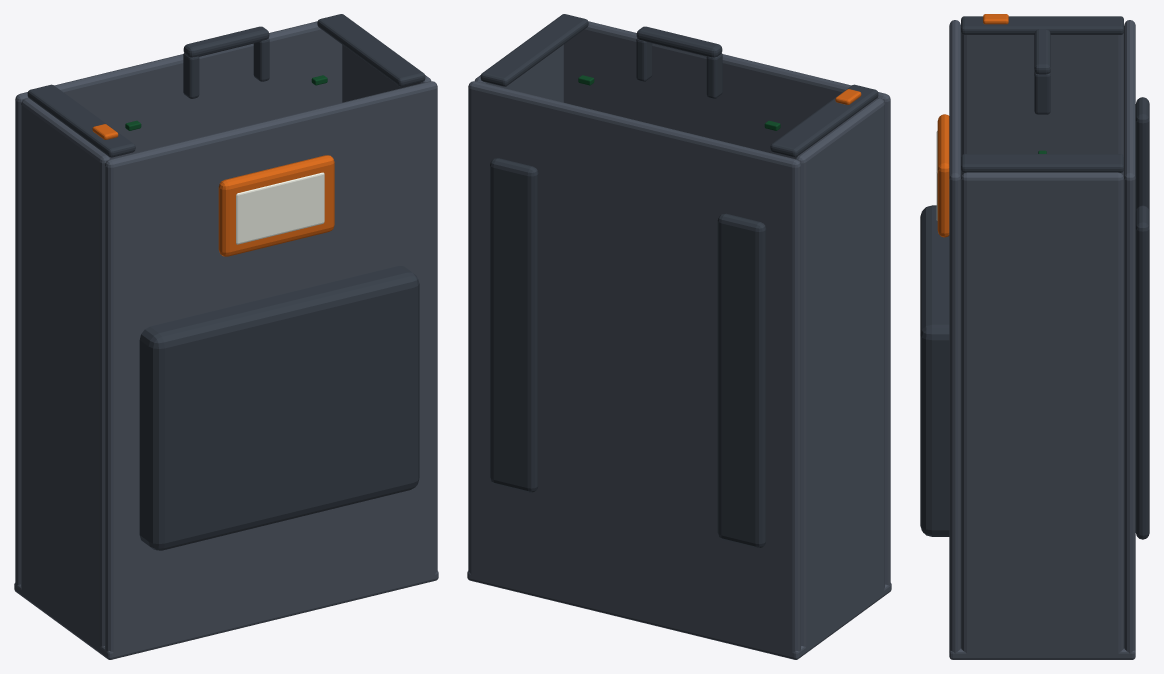
The model's file is bagsense_model_v10.obj.
The picture shows the model from 3 angles, left to right: view 1: azimuth 30°, elevation 25°; view 2: azimuth 150°, elevation 25°; view 3: azimuth 270°, elevation 25°; orthographic projection. The views are drawn at different scales.
Parts seen in each view (by area): view 1: Panel_Front, FrontPocket, Panel_Left, Panel_Back, DisplayPanel, DisplayBezel, ZipRim_Right, Panel_Floor, ZipRim_Left, Panel_Right, Handle_Bar, Handle_PostL (+1 smaller); view 2: Panel_Back, Panel_Left, Panel_Front, Strap_L, Strap_R, ZipRim_Right, Panel_Floor, ZipRim_Left, Panel_Right, Handle_Bar, Handle_PostL, Handle_PostR; view 3: Panel_Right, Panel_Left, FrontPocket, Panel_Back, Panel_Front, Strap_R, ZipRim_Right, ZipRim_Left, Strap_L, DisplayBezel, Panel_Floor, Handle_Bar (+1 smaller).
Boxes of the visible parts, x1,y1,x2,y2 form: Panel_Front: [105, 81, 437, 654]; FrontPocket: [139, 266, 419, 550]; Panel_Left: [21, 98, 109, 649]; Panel_Back: [15, 21, 341, 585]; DisplayPanel: [236, 172, 324, 244]; DisplayBezel: [218, 155, 334, 256]; ZipRim_Right: [317, 14, 425, 86]; Panel_Floor: [14, 570, 438, 659]; ZipRim_Left: [27, 84, 135, 157]; Panel_Right: [342, 44, 431, 102]; Handle_Bar: [183, 26, 269, 57]; Handle_PostL: [183, 53, 199, 98]; Panel_Back: [468, 81, 800, 654]; Panel_Left: [796, 98, 884, 647]; Panel_Front: [564, 21, 890, 585]; Strap_L: [717, 213, 766, 547]; Strap_R: [490, 158, 538, 492]; ZipRim_Right: [480, 14, 588, 86]; Panel_Floor: [467, 570, 891, 659]; ZipRim_Left: [770, 84, 878, 157]; Panel_Right: [474, 44, 563, 102]; Handle_Bar: [636, 26, 722, 57]; Handle_PostL: [706, 53, 722, 98]; Handle_PostR: [636, 38, 652, 81]; Panel_Right: [961, 172, 1123, 655]; Panel_Left: [961, 32, 1123, 177]; FrontPocket: [920, 205, 949, 536]; Panel_Back: [1124, 20, 1135, 653]; Panel_Front: [949, 20, 960, 653]; Strap_R: [1135, 205, 1149, 539]; ZipRim_Right: [961, 154, 1123, 172]; ZipRim_Left: [961, 16, 1123, 34]; Strap_L: [1135, 97, 1149, 211]; DisplayBezel: [937, 114, 949, 237]; Panel_Floor: [949, 648, 1135, 659]; Handle_Bar: [1034, 29, 1050, 74].
Size of what is drawn, in the model's own units: 320 by 507 by 197.
